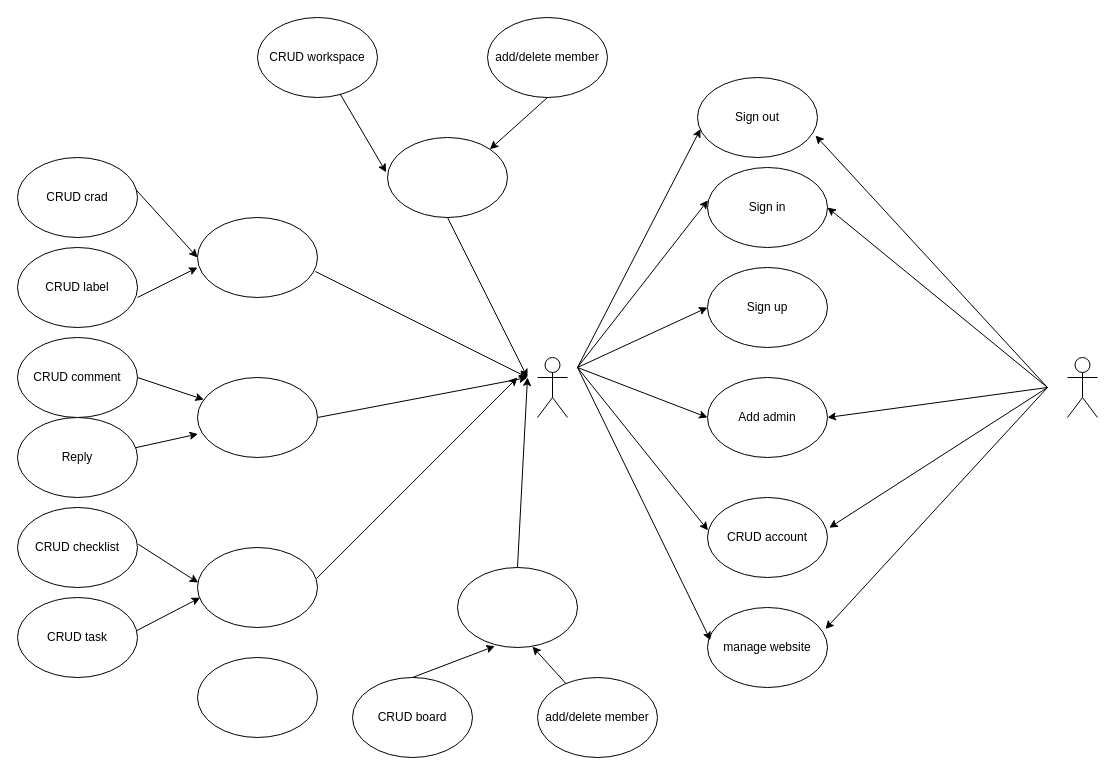
Some shapes in this 1117 by 775 pixel diagram are drawn without their labels. Each missing label, with the centre of its shape:
"Admin" goes at (x=1082, y=387).
"comment" goes at (x=257, y=417).
"CRUD column" goes at (x=257, y=697).
"manage board" goes at (x=517, y=607).
"manage card" goes at (x=257, y=257).
"manage checklist" goes at (x=257, y=587).
"manage workspace" goes at (x=447, y=177).
"User" goes at (x=552, y=387).
